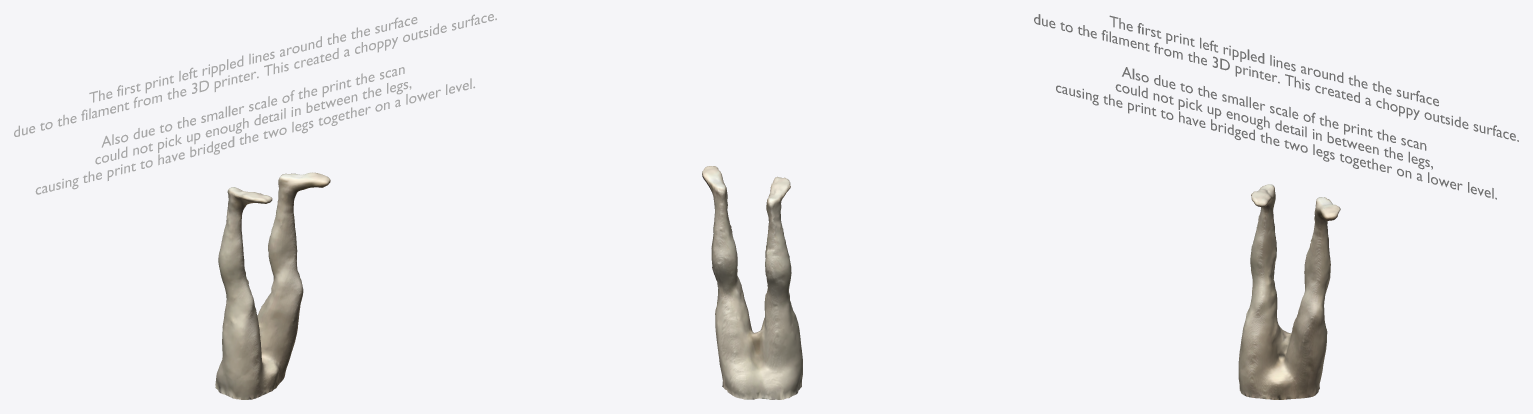
Rendered from david2.glb.
3 renders of one model, left to right at view 1: azimuth 30°, elevation 25°; view 2: azimuth 150°, elevation 25°; view 3: azimuth 330°, elevation 25°, orthographic.
Visible parts, largest first — view 1: textured, Text; view 2: textured; view 3: textured, Text.
Part boxes in pixels (x1,y1,x2,y2): textured: (215, 172, 330, 399); Text: (14, 14, 496, 194); textured: (702, 166, 802, 399); textured: (1238, 184, 1340, 399); Text: (1034, 14, 1518, 199).
Bounding box in the file's own units: 1.39 × 0.9186 × 0.1831.
1 material, 1 textured.
